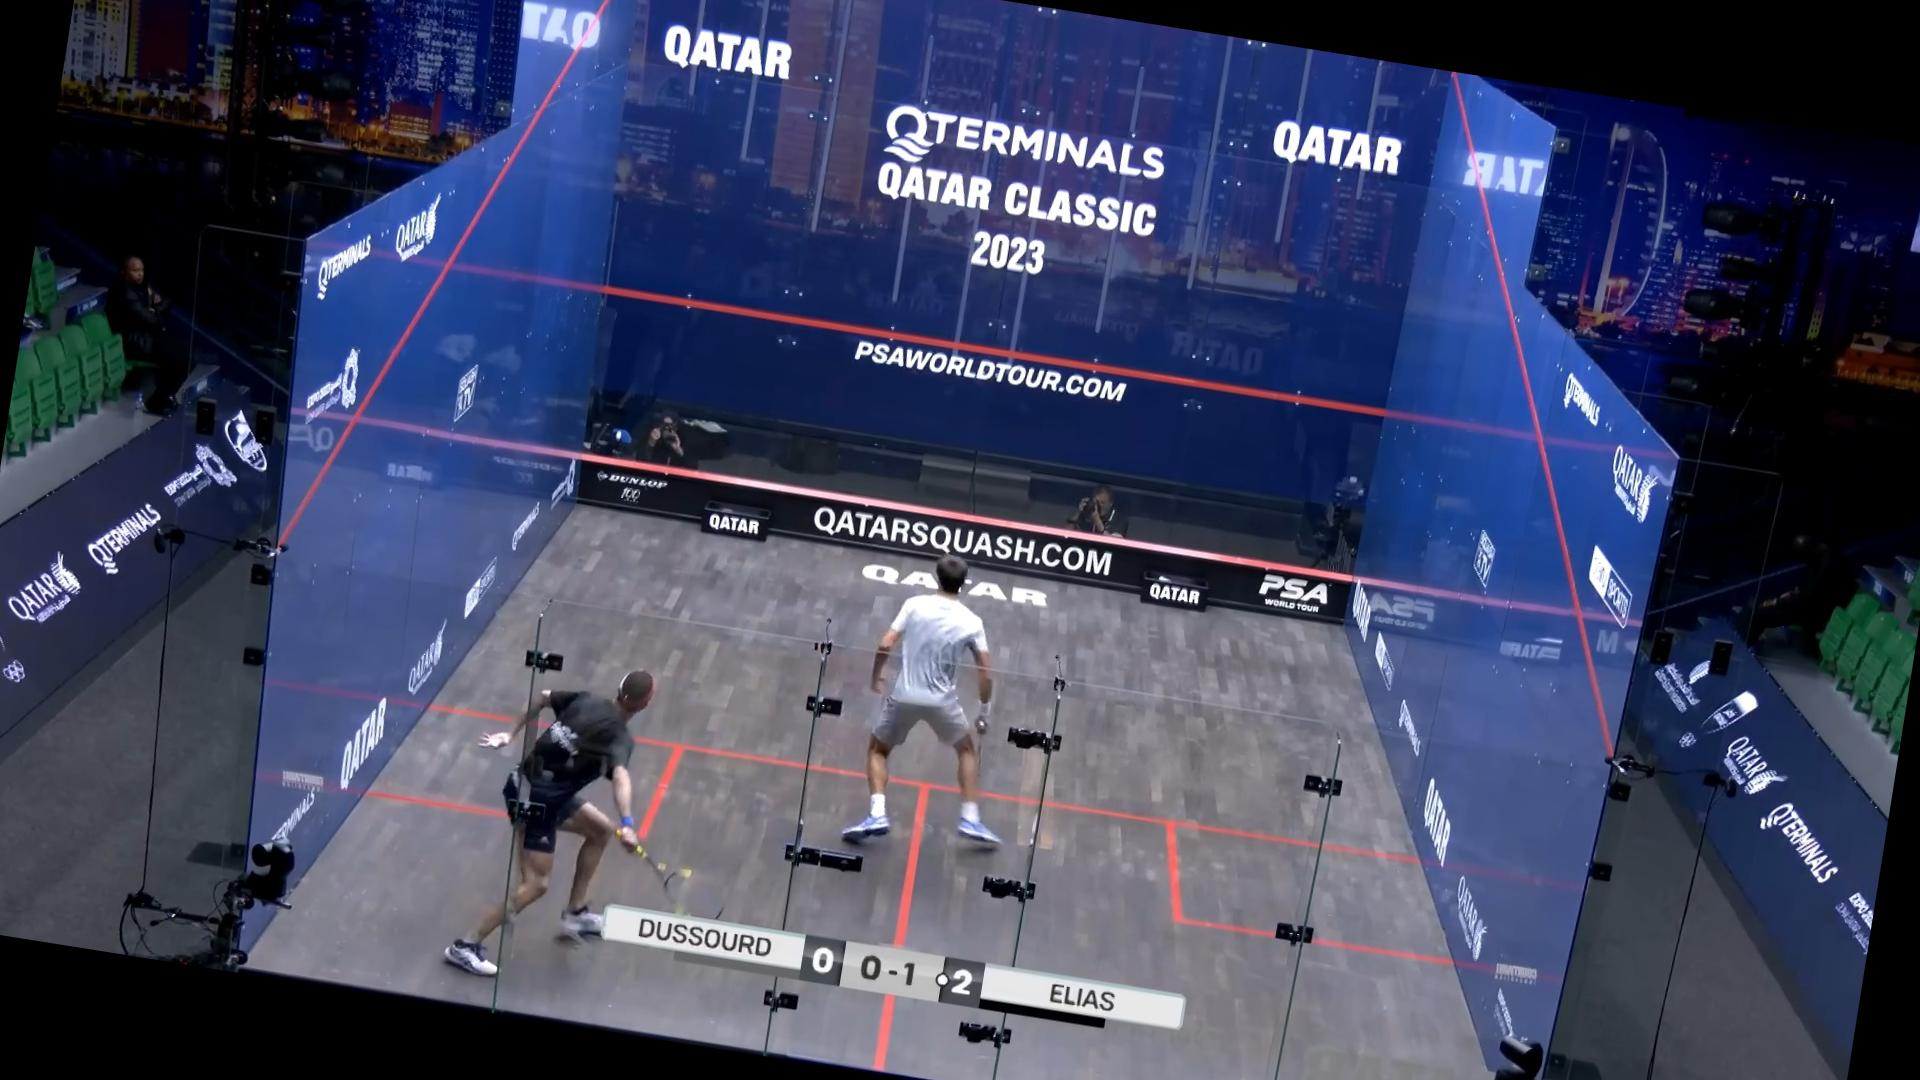Racket: (607, 824, 740, 920)
